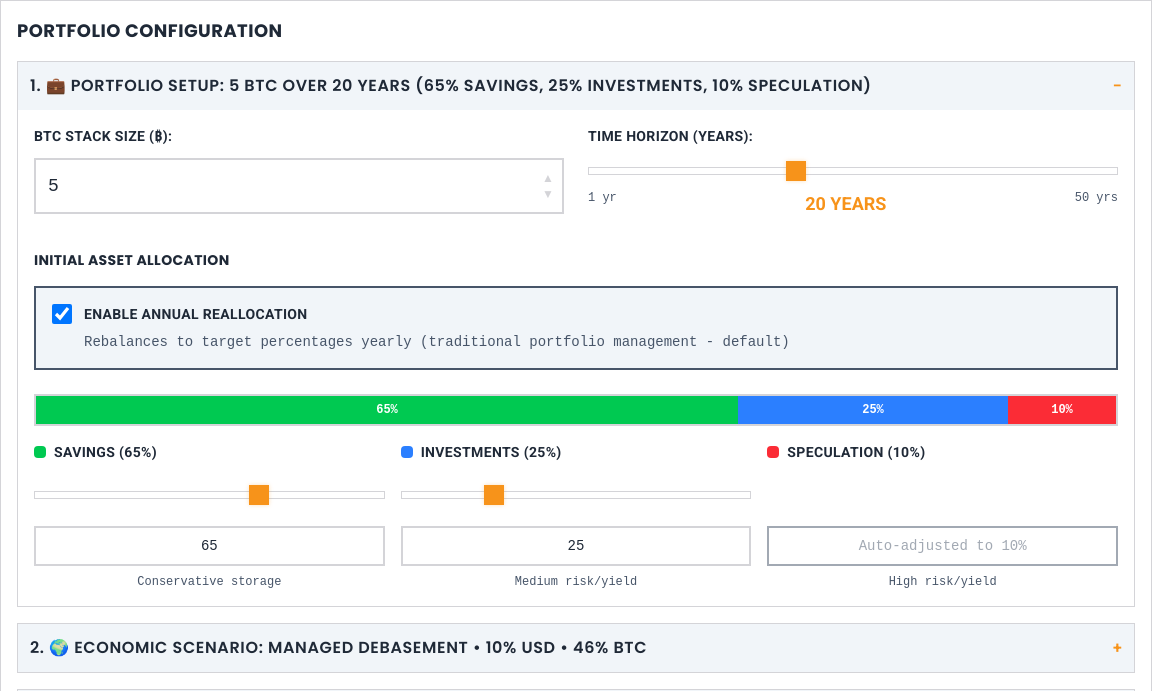
Test: PortfolioForm › should update time horizon when slider changes
Set the slider showing "20" below "TIME HORIZON (YEARS):" to "30" at (900, 171), box x1=588 y1=167 x2=1118 y2=175
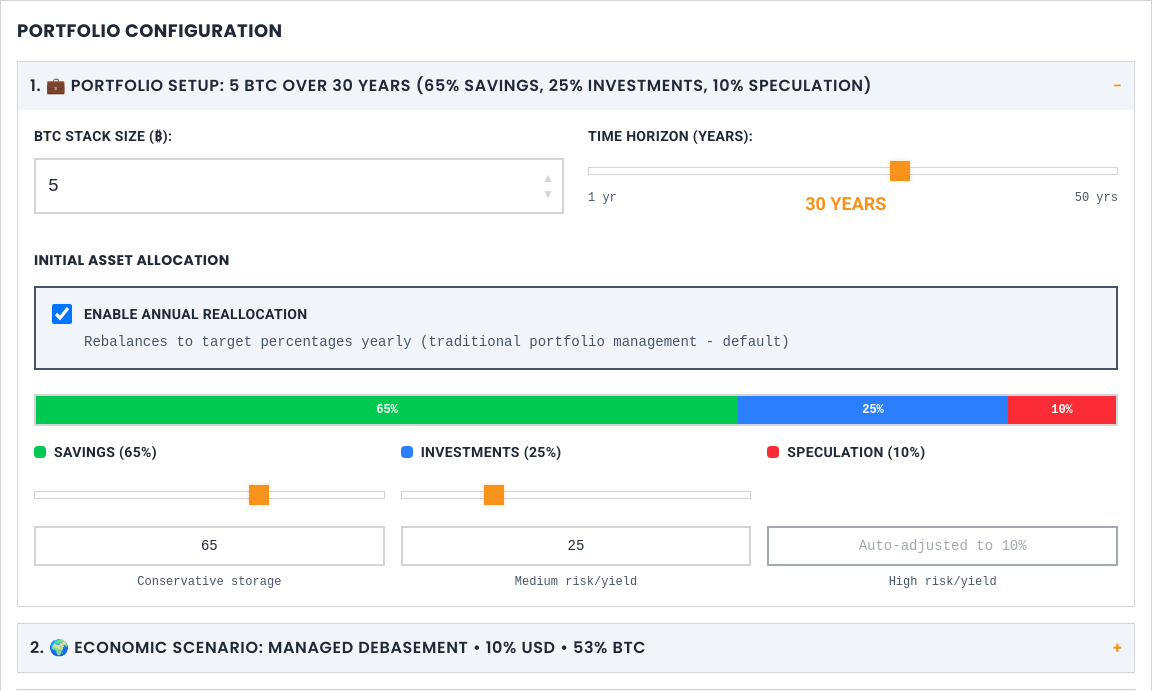
Check: the text "30 YEARS" is shown, box x1=805 y1=190 x2=886 y2=218
